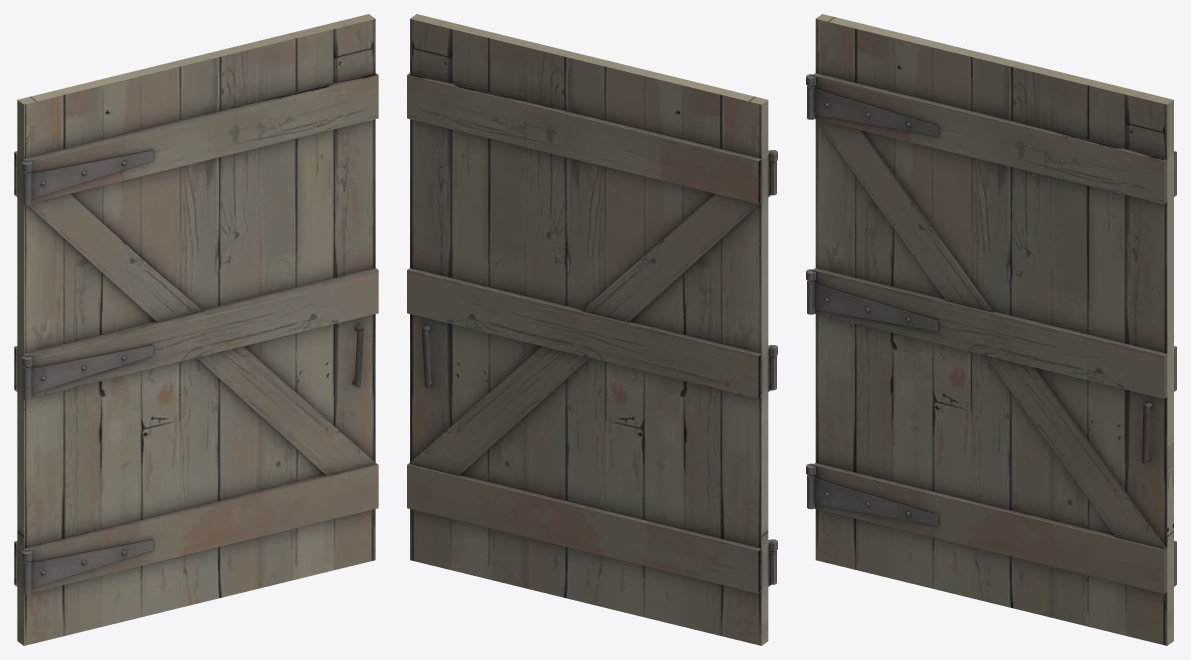
The picture shows the model from 3 angles, left to right: view 1: azimuth 30°, elevation 25°; view 2: azimuth 150°, elevation 25°; view 3: azimuth 330°, elevation 25°; orthographic projection.
Visible parts, largest first — view 1: body0_model0_lod0_mesh0, body0_model0_lod0_mesh1; view 2: body0_model0_lod0_mesh1, body0_model0_lod0_mesh0; view 3: body0_model0_lod0_mesh0, body0_model0_lod0_mesh1.
Boxes of the visible parts, left/top/right/bottom form: body0_model0_lod0_mesh0: left=20, top=16, right=378, bottom=645; body0_model0_lod0_mesh1: left=14, top=14, right=371, bottom=643; body0_model0_lod0_mesh1: left=407, top=16, right=764, bottom=645; body0_model0_lod0_mesh0: left=413, top=14, right=777, bottom=643; body0_model0_lod0_mesh0: left=806, top=16, right=1170, bottom=645; body0_model0_lod0_mesh1: left=819, top=14, right=1176, bottom=642.
Bounding box in the file's own units: 138 × 200 × 11.81.
Materials: 2 (2 with a texture image).
